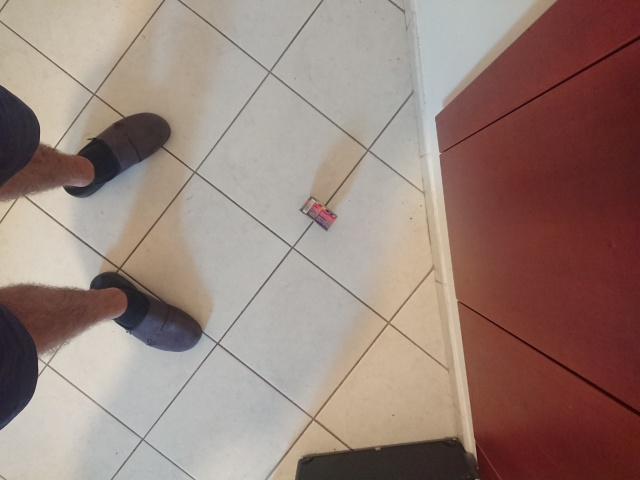Giana Tuna Salad Mexico 185g: (298, 194, 339, 233)
